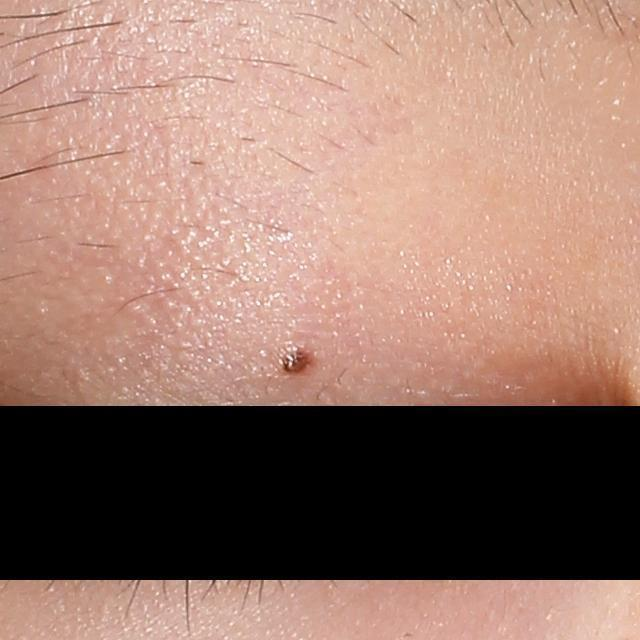nevus: (277, 345, 314, 374)
